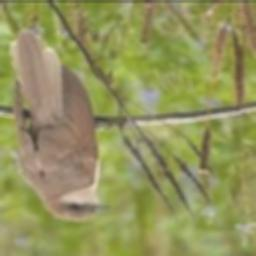Cuckoo: (10, 30, 112, 222)
